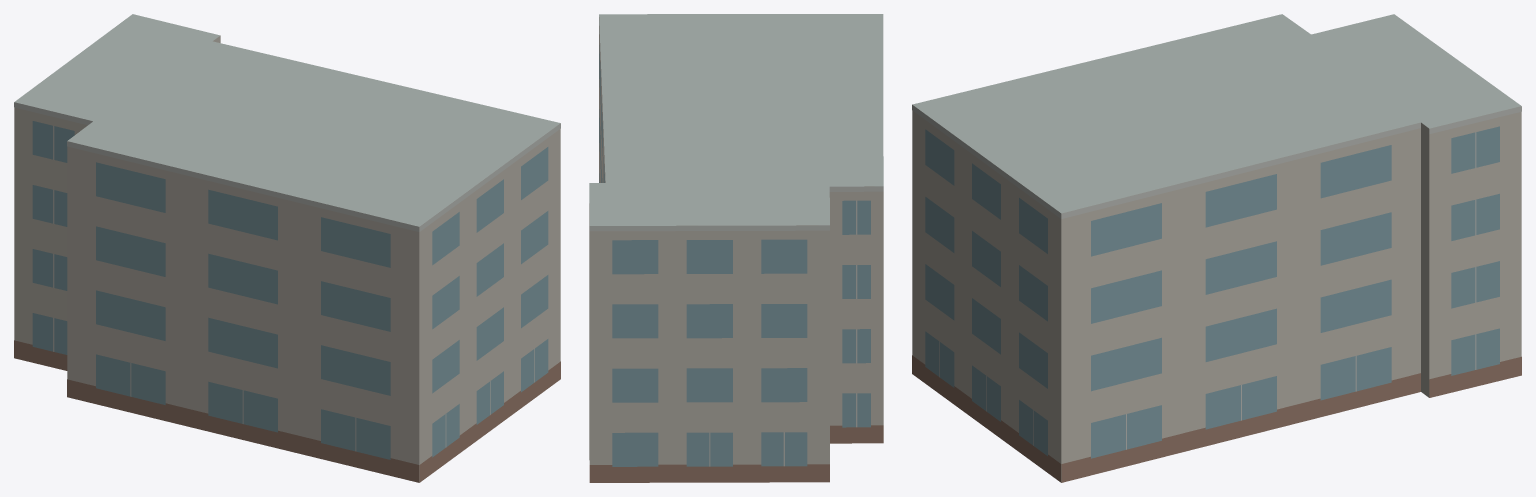
The model's file is survey-upis-32716744.glb.
The picture shows the model from 3 angles, left to right: view 1: azimuth 30°, elevation 25°; view 2: azimuth 150°, elevation 25°; view 3: azimuth 270°, elevation 25°; orthographic projection. The views are drawn at different scales.
Parts seen in each view (by area): view 1: survey-upis-32716744.tmp; view 2: survey-upis-32716744.tmp; view 3: survey-upis-32716744.tmp.
Boxes of the visible parts, x1,y1,x2,y2 form: survey-upis-32716744.tmp: (14, 14, 560, 482); survey-upis-32716744.tmp: (589, 14, 883, 482); survey-upis-32716744.tmp: (912, 14, 1521, 482).
Size of the model in its own units: 18.59 by 11.7 by 24.01.
